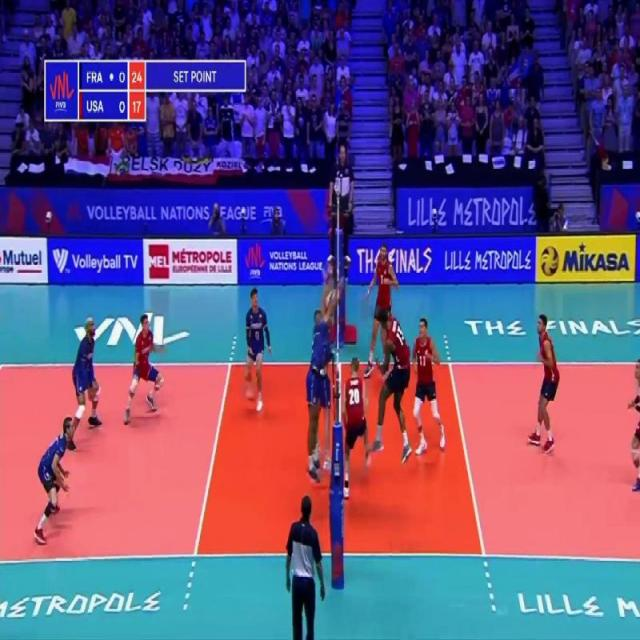volleyball: (325, 290, 335, 312)
